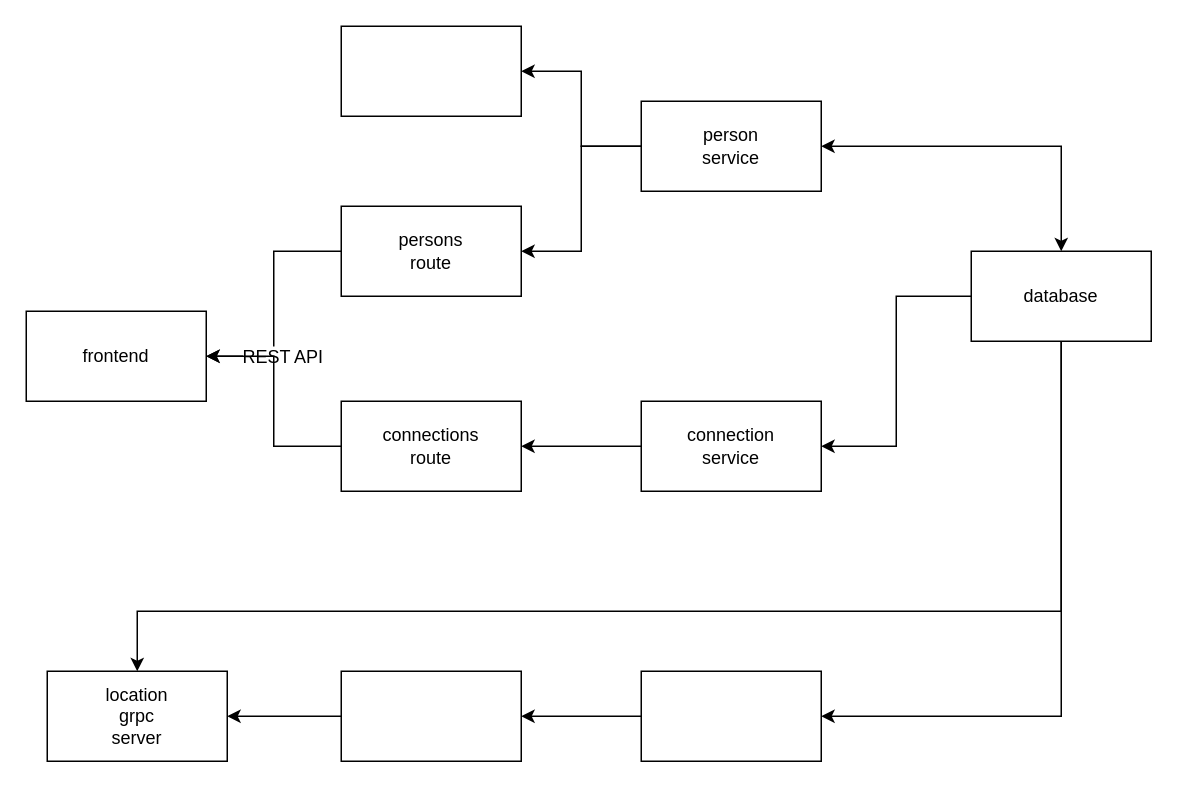
This 1178x788 diagram has some shape labels left out. The box of each missing label's shape, as (x1, y1, x2, y2) in pixels:
kafka: (340, 670, 521, 761)
location consumer: (640, 670, 821, 761)
person route: (340, 25, 521, 116)
